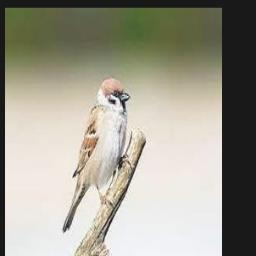Sparrow: (63, 77, 130, 232)
